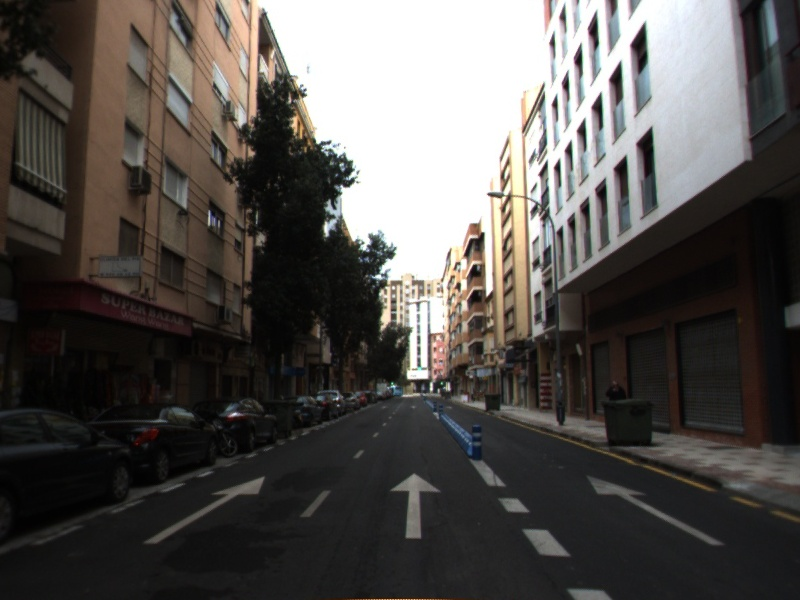STRAIGHT: (584, 473, 727, 547), (141, 474, 266, 546), (388, 471, 443, 540)
